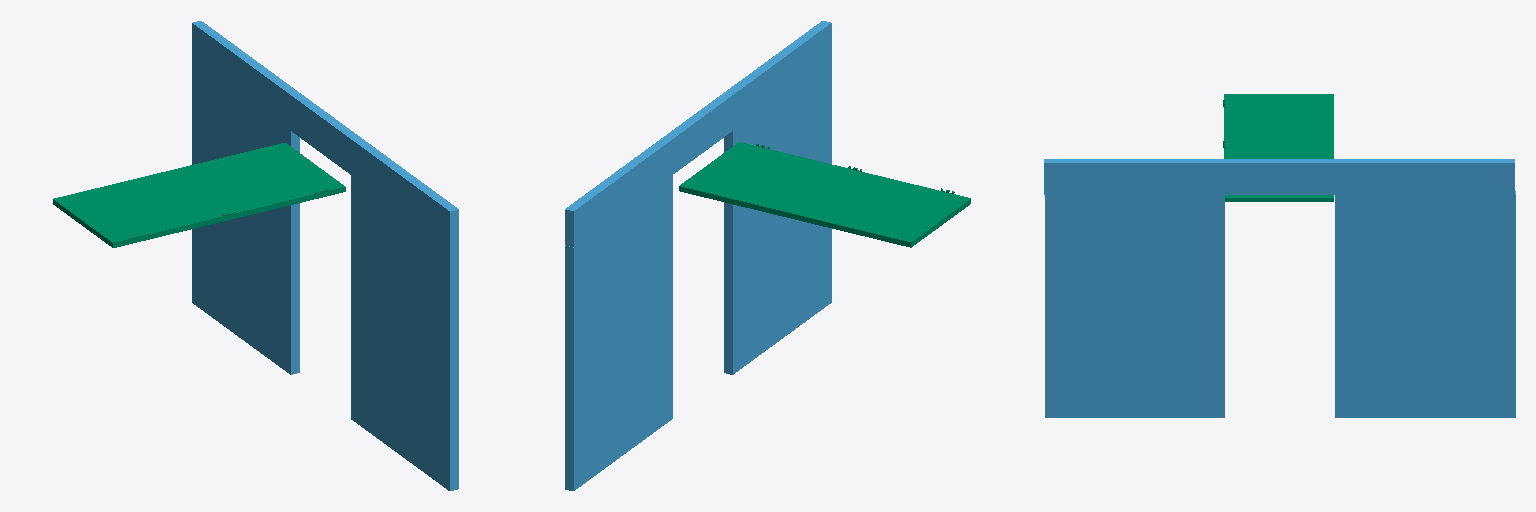
URDF robot description (door_test):
<robot name = 'door_test' xmlns:xacro="http://ros.org/wiki/xacro">
    <!-- <link name = 'world'/> -->
    
    <!-- <joint name = 'world2base' type = 'fixed'>
        <parent link = 'world'/>
        <child link = 'base_link'/>
    </joint> -->

    <link name = 'base_link'/>
        
    <joint name = 'base_joint' type = 'fixed'>
        <parent link = 'base_link'/>
        <origin xyz = '0 -0.5 0.0' rpy='0 0 0'/>
        <!-- if move y : the door will slide -->
        <child link = 'door_wall'/>
    </joint>

    <link name = 'door_wall'>
        <visual>
            <geometry>
                <box size='0.08 1.5 2.04'/>
            </geometry>
            <origin xyz = '-0.03 -0.67 1.02' rpy = '0 0 0'/>
        </visual>
        <visual>
            <geometry>
                <box size='0.08 1.5 2.04'/>
            </geometry>
            <origin xyz = '-0.03 1.74 1.02' rpy = '0 0 0'/>
        </visual>
        <visual>
            <geometry>
                <box size='0.08 3.91 0.3'/>
            </geometry>
            <origin xyz = '-0.03 0.532 2.19' rpy = '0 0 0'/>
        </visual>

        <collision name="side_1_:hinge_side">
            <geometry>
                <box size='0.08 1.5 2.04'/>
            </geometry>
            <origin xyz = '-0.03 -0.67 1.02' rpy = '0 0 0'/>
        </collision>
        <collision name="side_2">
            <geometry>
                <box size = '0.05029 0.06858 2.10820'/>
            </geometry>
            <origin xyz="-0.02 1.02 1.05" rpy="0 0 0"/>
        </collision>
        <collision>
            <geometry>
                <box size='0.08 1.5 2.04'/>
            </geometry>
            <origin xyz = '-0.03 1.77 1.02' rpy = '0 0 0'/>
        </collision>
        <collision name="top">
            <geometry>
                <box size='0.08 3.91 0.3'/>
            </geometry>
            <origin xyz = '-0.03 0.532 2.19' rpy = '0 0 0'/>
        </collision>
        <inertial>
            <origin xyz="0 0 0" rpy="0 0 0"/>
            <mass value="10000.0"/>
            <inertia ixx="0.0" ixy="0.0" ixz="0.0" iyy="0.0" iyz="0.0" izz="0.0"/>
        </inertial>
    </link>

    <joint name = 'door_hinge' type = 'revolute'>
        <axis xyz = '0 0 1' rpy = '0 0 0 '/>
        <origin xyz = '-0.07 0.06858 2.040'/>
        <limit lower = '0' upper = '1.57' effort='10000' velocity="100.00"/>
        <dynamics damping="10.0" friction="0.0"/>
        <parent link = 'door_wall'/>
        <child link = 'door'/>
    </joint>

    <link name = 'door'>
        <visual>
            <geometry>
                <mesh filename = './meshes/door.dae'/>
            </geometry>
            <origin xyz = '-0.05 0 0' rpy = '-1.57 0 1.57'/>
            <color rgba = '0.5 0.5 0.5 1.0'/>
        </visual>
        <collision name="door_collision">
            <geometry>
                <mesh filename = './meshes/door.dae'/>
            </geometry>
            <origin xyz = '-0.05 0 0' rpy = '-1.57 0 1.57'/>
        </collision>
        <inertial>
            <origin xyz="0.4569 0.0349 1.016" rpy="0 0 0"/>
            <mass value="41.3256"/>
            <inertia ixx="14.2053" ixy="0.0004" ixz="0.0000" iyy="17.1997" iyz="0.0000" izz="3.0298"/>
        </inertial>
    </link>

    <joint name = 'door_handle' type = 'revolute'>
        <axis xyz = '1 0 0' rpy = '0 0 0 '/>
        <parent link = 'door'/>
        <origin xyz = '0.035 0.75 -1.02'/>
        <limit lower = '0' upper = '0.5236' effort='100' velocity="1000.00"/>
        <dynamics damping="0.0" friction="0.0"/>
        <child link = 'door_handles'/>
    </joint>

    <link name = 'door_handles'>
        <visual>
            <geometry>
                <mesh filename = './meshes/door_handle.dae'/>
            </geometry>
            <origin xyz = '0 0 0' rpy = '0 3.141592 1.57'/>
            <color rgba = '0.55 0.5 0.5 1.0'/>
        </visual>
        <visual>
            <geometry>
                <mesh filename = './meshes/door_handle.dae'/>
            </geometry>
            <origin xyz = '0.04 0 0' rpy = '0 0 -1.57'/>
             <color rgba = '0.5 0.5 0.5 1.0'/>
        </visual>
        <collision name="door_handles_collision">
            <geometry>
                <mesh filename="./meshes/door_handle.dae"/>
            </geometry>
            <origin xyz = '0 0 0' rpy = '0 3.141592 1.57'/>
        </collision>
        <collision name="door_handles_collision">
            <geometry>
                <mesh filename="./meshes/door_handle.dae"/>
            </geometry>
            <origin xyz = '0.045 0 0' rpy = '0 0 -1.57'/>
        </collision>
        <inertial>
            <origin xyz="0.0 0.0 0.0" rpy="3.14159 0 1.57"/>
            <mass value="1.0"/>
            <!-- <inertia ixx="14.2053" ixy="0.0004" ixz="0.0000" iyy="17.1997" iyz="0.0000" izz="3.0298"/> -->
        </inertial>
    </link>
    
    <joint name = 'handle2latch' type = 'fixed'>
        <parent link = 'door_handles'/>
        <child link = 'door_latch'/>
    </joint>

    <link name='door_latch'>
        <collision>
            <geometry>
                <box size='0.001 0.14 0.01'/>
            </geometry>
            <origin xyz = '0.043 0.1 0' rpy = '0 0 0'/>
        </collision>
    </link>
    <!-- <gazebo reference="world">
        <material>Gazebo/Red</material>
    </gazebo> -->

</robot>

--- Render facts (derived) ---
The picture shows the robot from 3 angles, left to right: view 1: azimuth 30°, elevation 25°; view 2: azimuth 150°, elevation 25°; view 3: azimuth 270°, elevation 25°; orthographic projection.
Robot: door_test — 5 links, 4 joints (2 revolute, 2 fixed); root link base_link; default pose: all joints at 0.
Visible links, largest first — view 1: door_wall, door; view 2: door_wall, door; view 3: door_wall, door.
Link boxes in pixels (<box>): door_wall: <box>192,21,458,490</box>; door: <box>53,143,345,247</box>; door_wall: <box>565,21,831,490</box>; door: <box>679,142,970,247</box>; door_wall: <box>1044,159,1515,417</box>; door: <box>1223,94,1333,201</box>.
Bounding box of the posed robot: 2.16 × 3.91 × 2.34 m (x, y, z).
1 mesh visuals loaded from 2 distinct referenced files (1 Collada DAE); not drawn: 2 (reference not matched to a file when rendering).